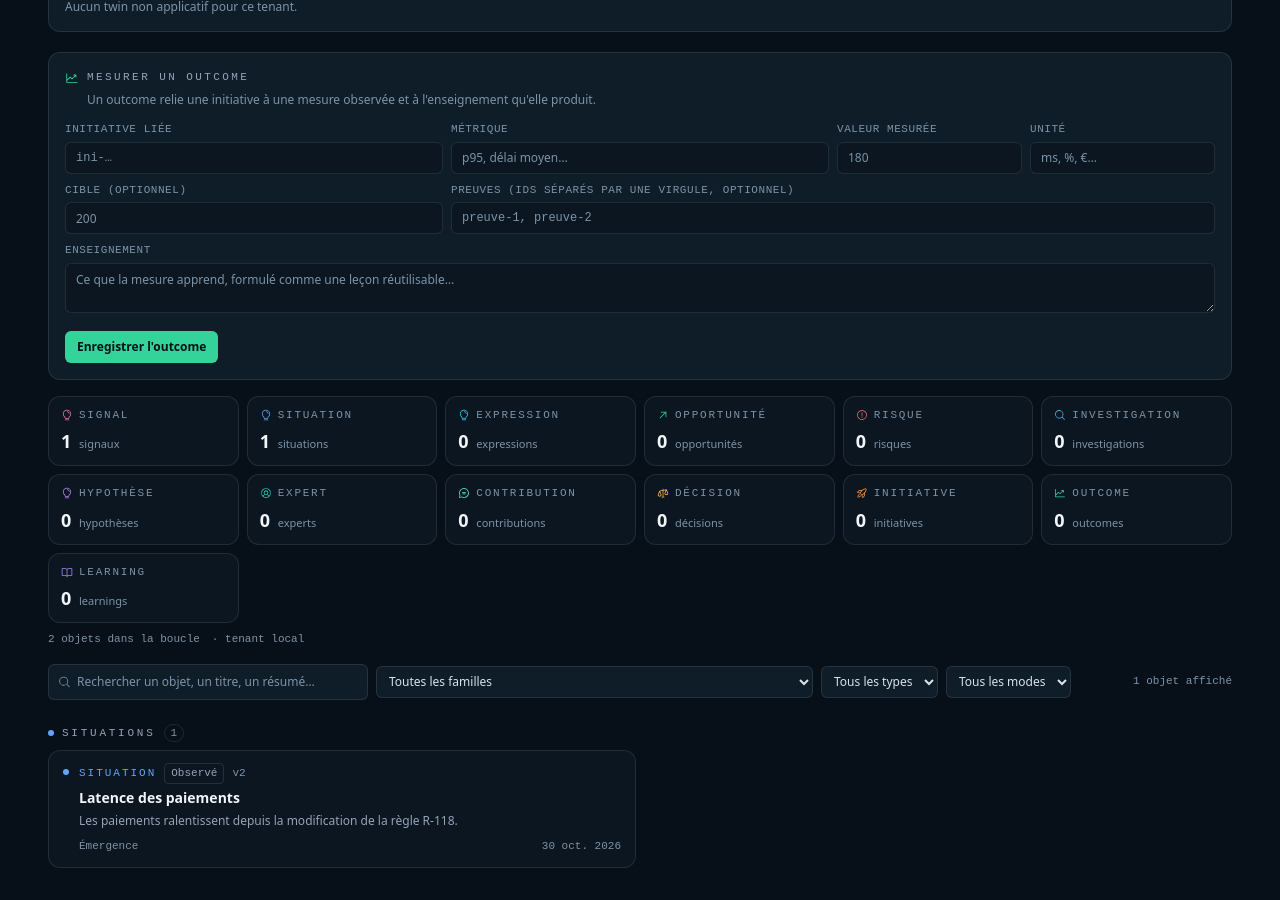
Test: le bouton global reste global après fermeture d'une situation
Later steps or results of the test are not shown.
(page scrolled)
Click the button that starts with "Situation": point(342, 809) x1=48 y1=750 x2=636 y2=868
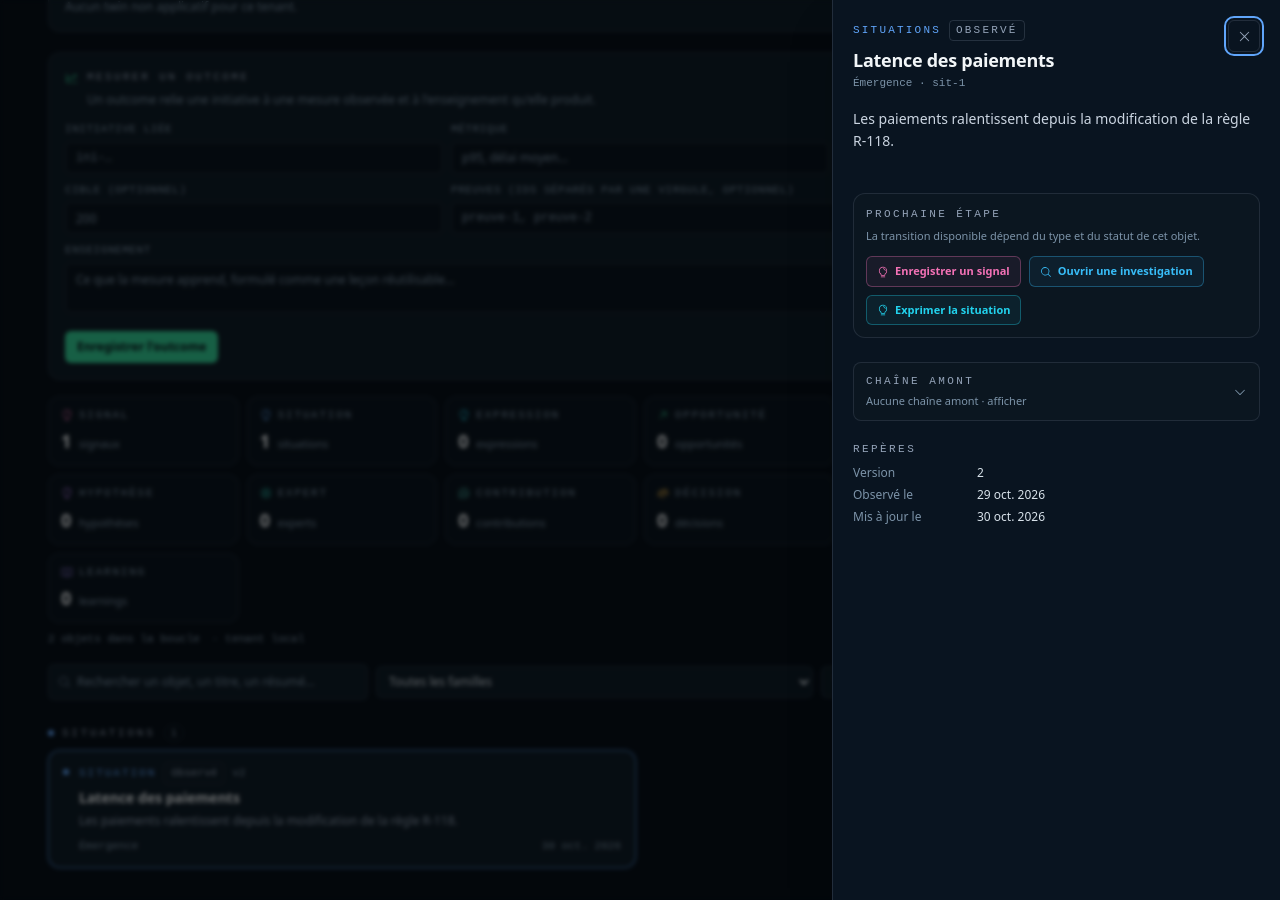
Now the element with test id "boucle-detail" is shown
Click the 2nd button named "Fermer le détail": point(1244, 36) x1=1228 y1=20 x2=1260 y2=52
(page scrolled)
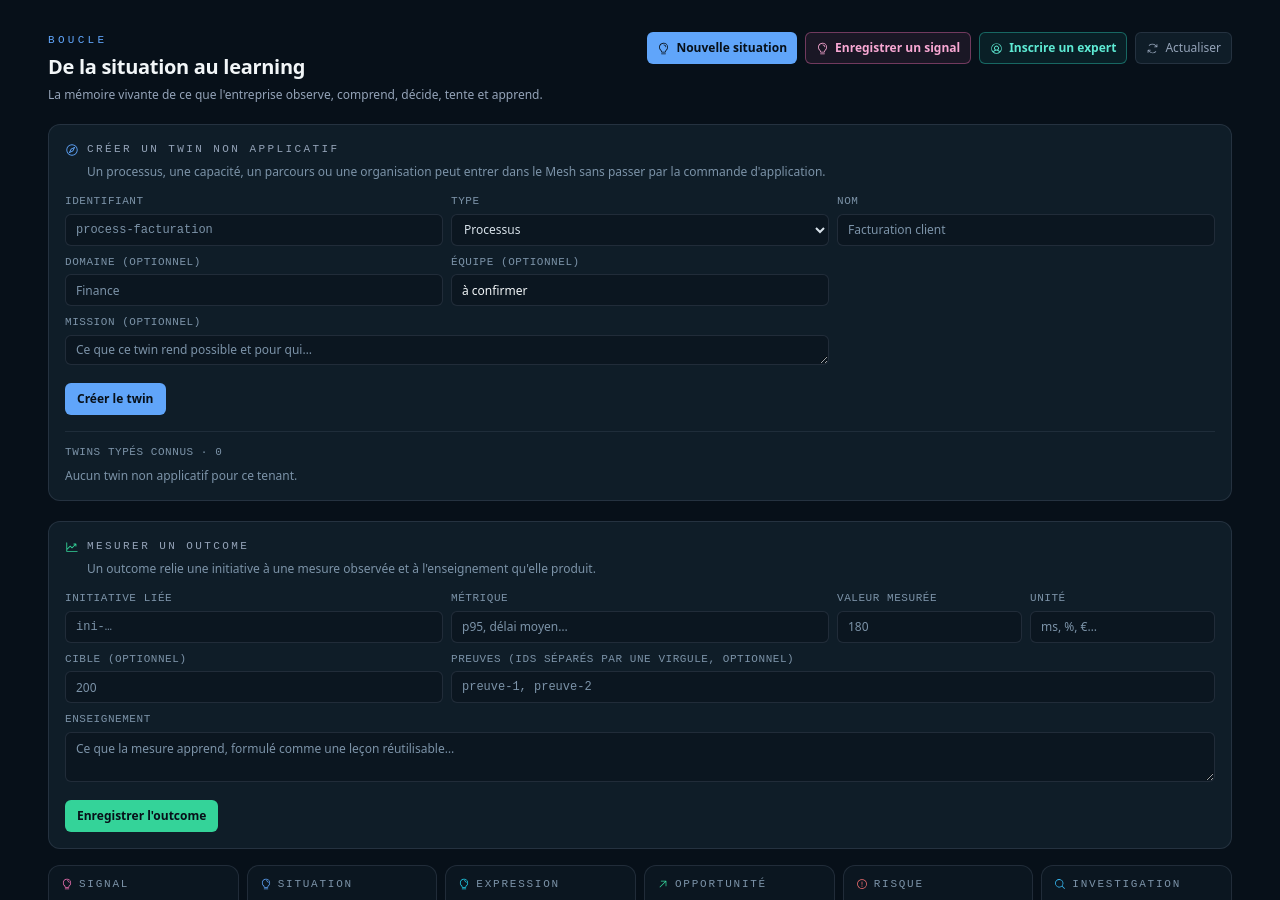
Now the element with test id "boucle-detail" is gone
Click the button with test id "boucle-nouveau-signal": point(888, 48) x1=805 y1=32 x2=971 y2=64
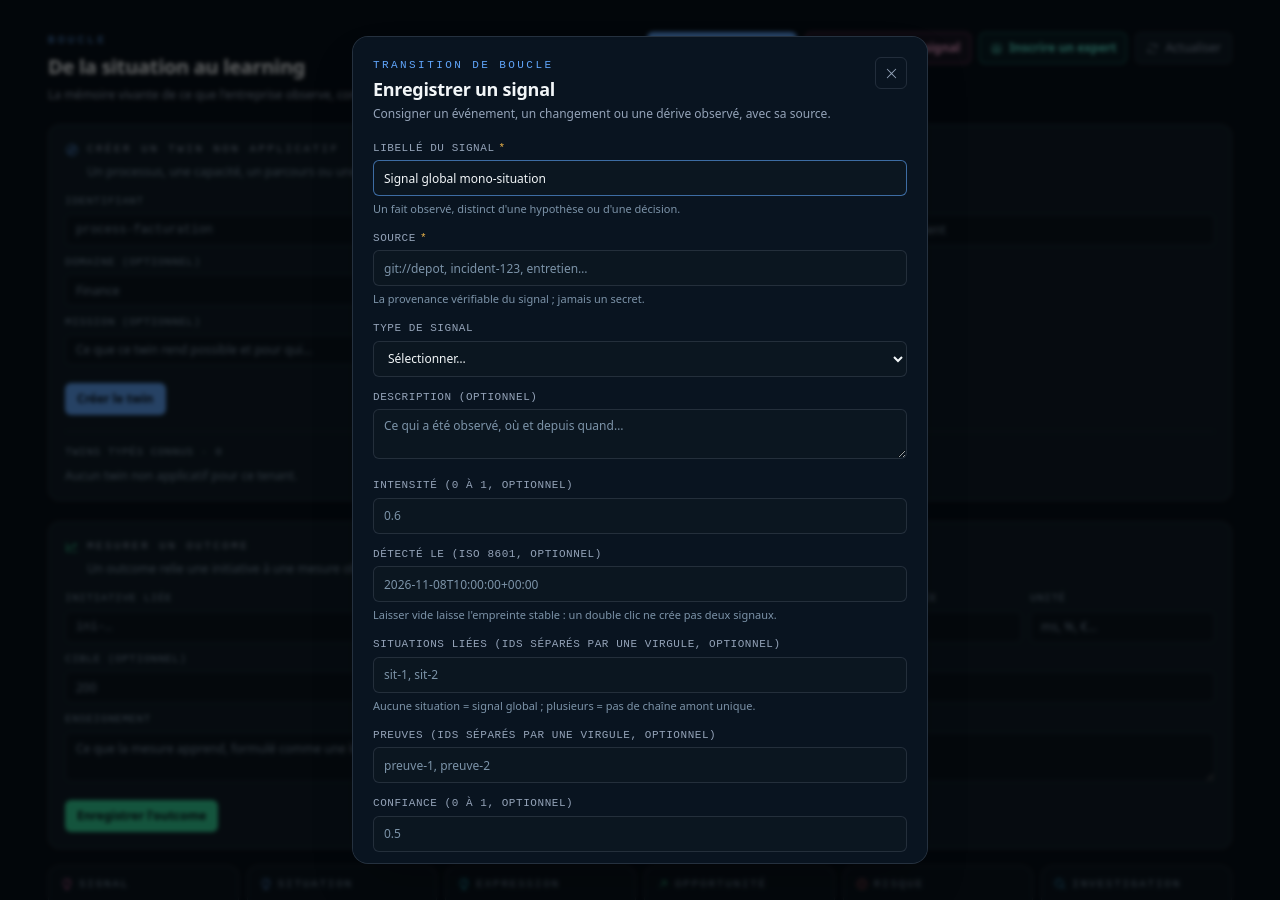
Now the dialog with test id "boucle-transition-modale" is shown, box x1=352 y1=36 x2=928 y2=864
Now the field with test id "boucle-transition-situation_ids" is shown, box x1=373 y1=657 x2=907 y2=693
